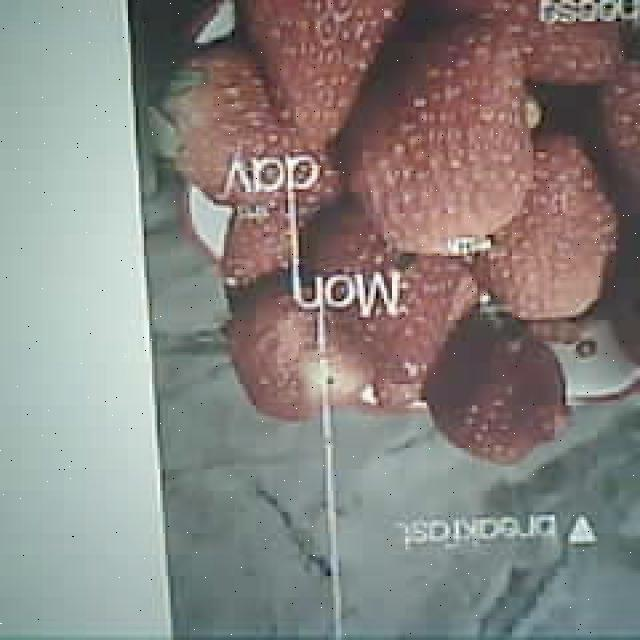strawberry: (348, 18, 528, 256), (477, 137, 622, 322)
